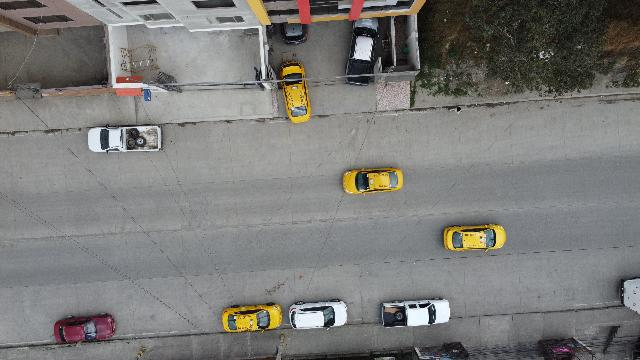Vehiculo: (88, 125, 162, 154), (381, 298, 450, 328), (280, 61, 311, 122), (346, 18, 379, 75), (54, 313, 114, 343), (222, 302, 282, 332), (290, 299, 348, 330), (444, 224, 506, 252), (342, 168, 403, 194), (281, 22, 308, 45)
